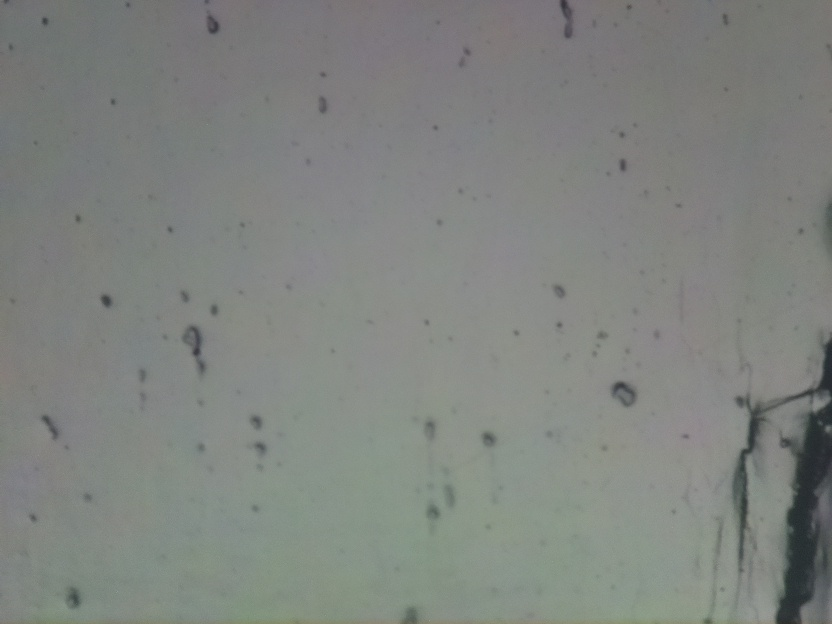crack: (777, 335, 832, 624), (725, 385, 777, 559)
